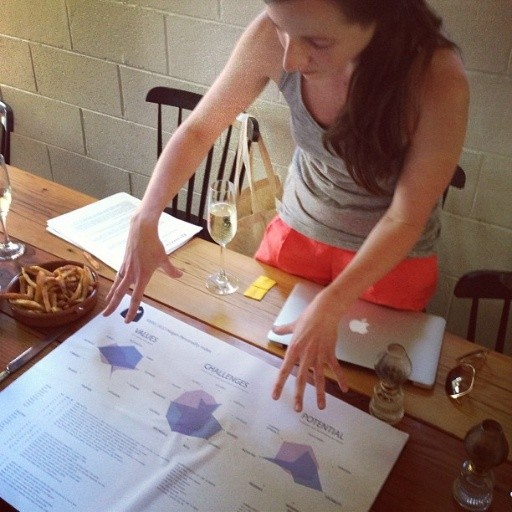hand: (277, 273, 368, 411), (96, 208, 184, 325)
